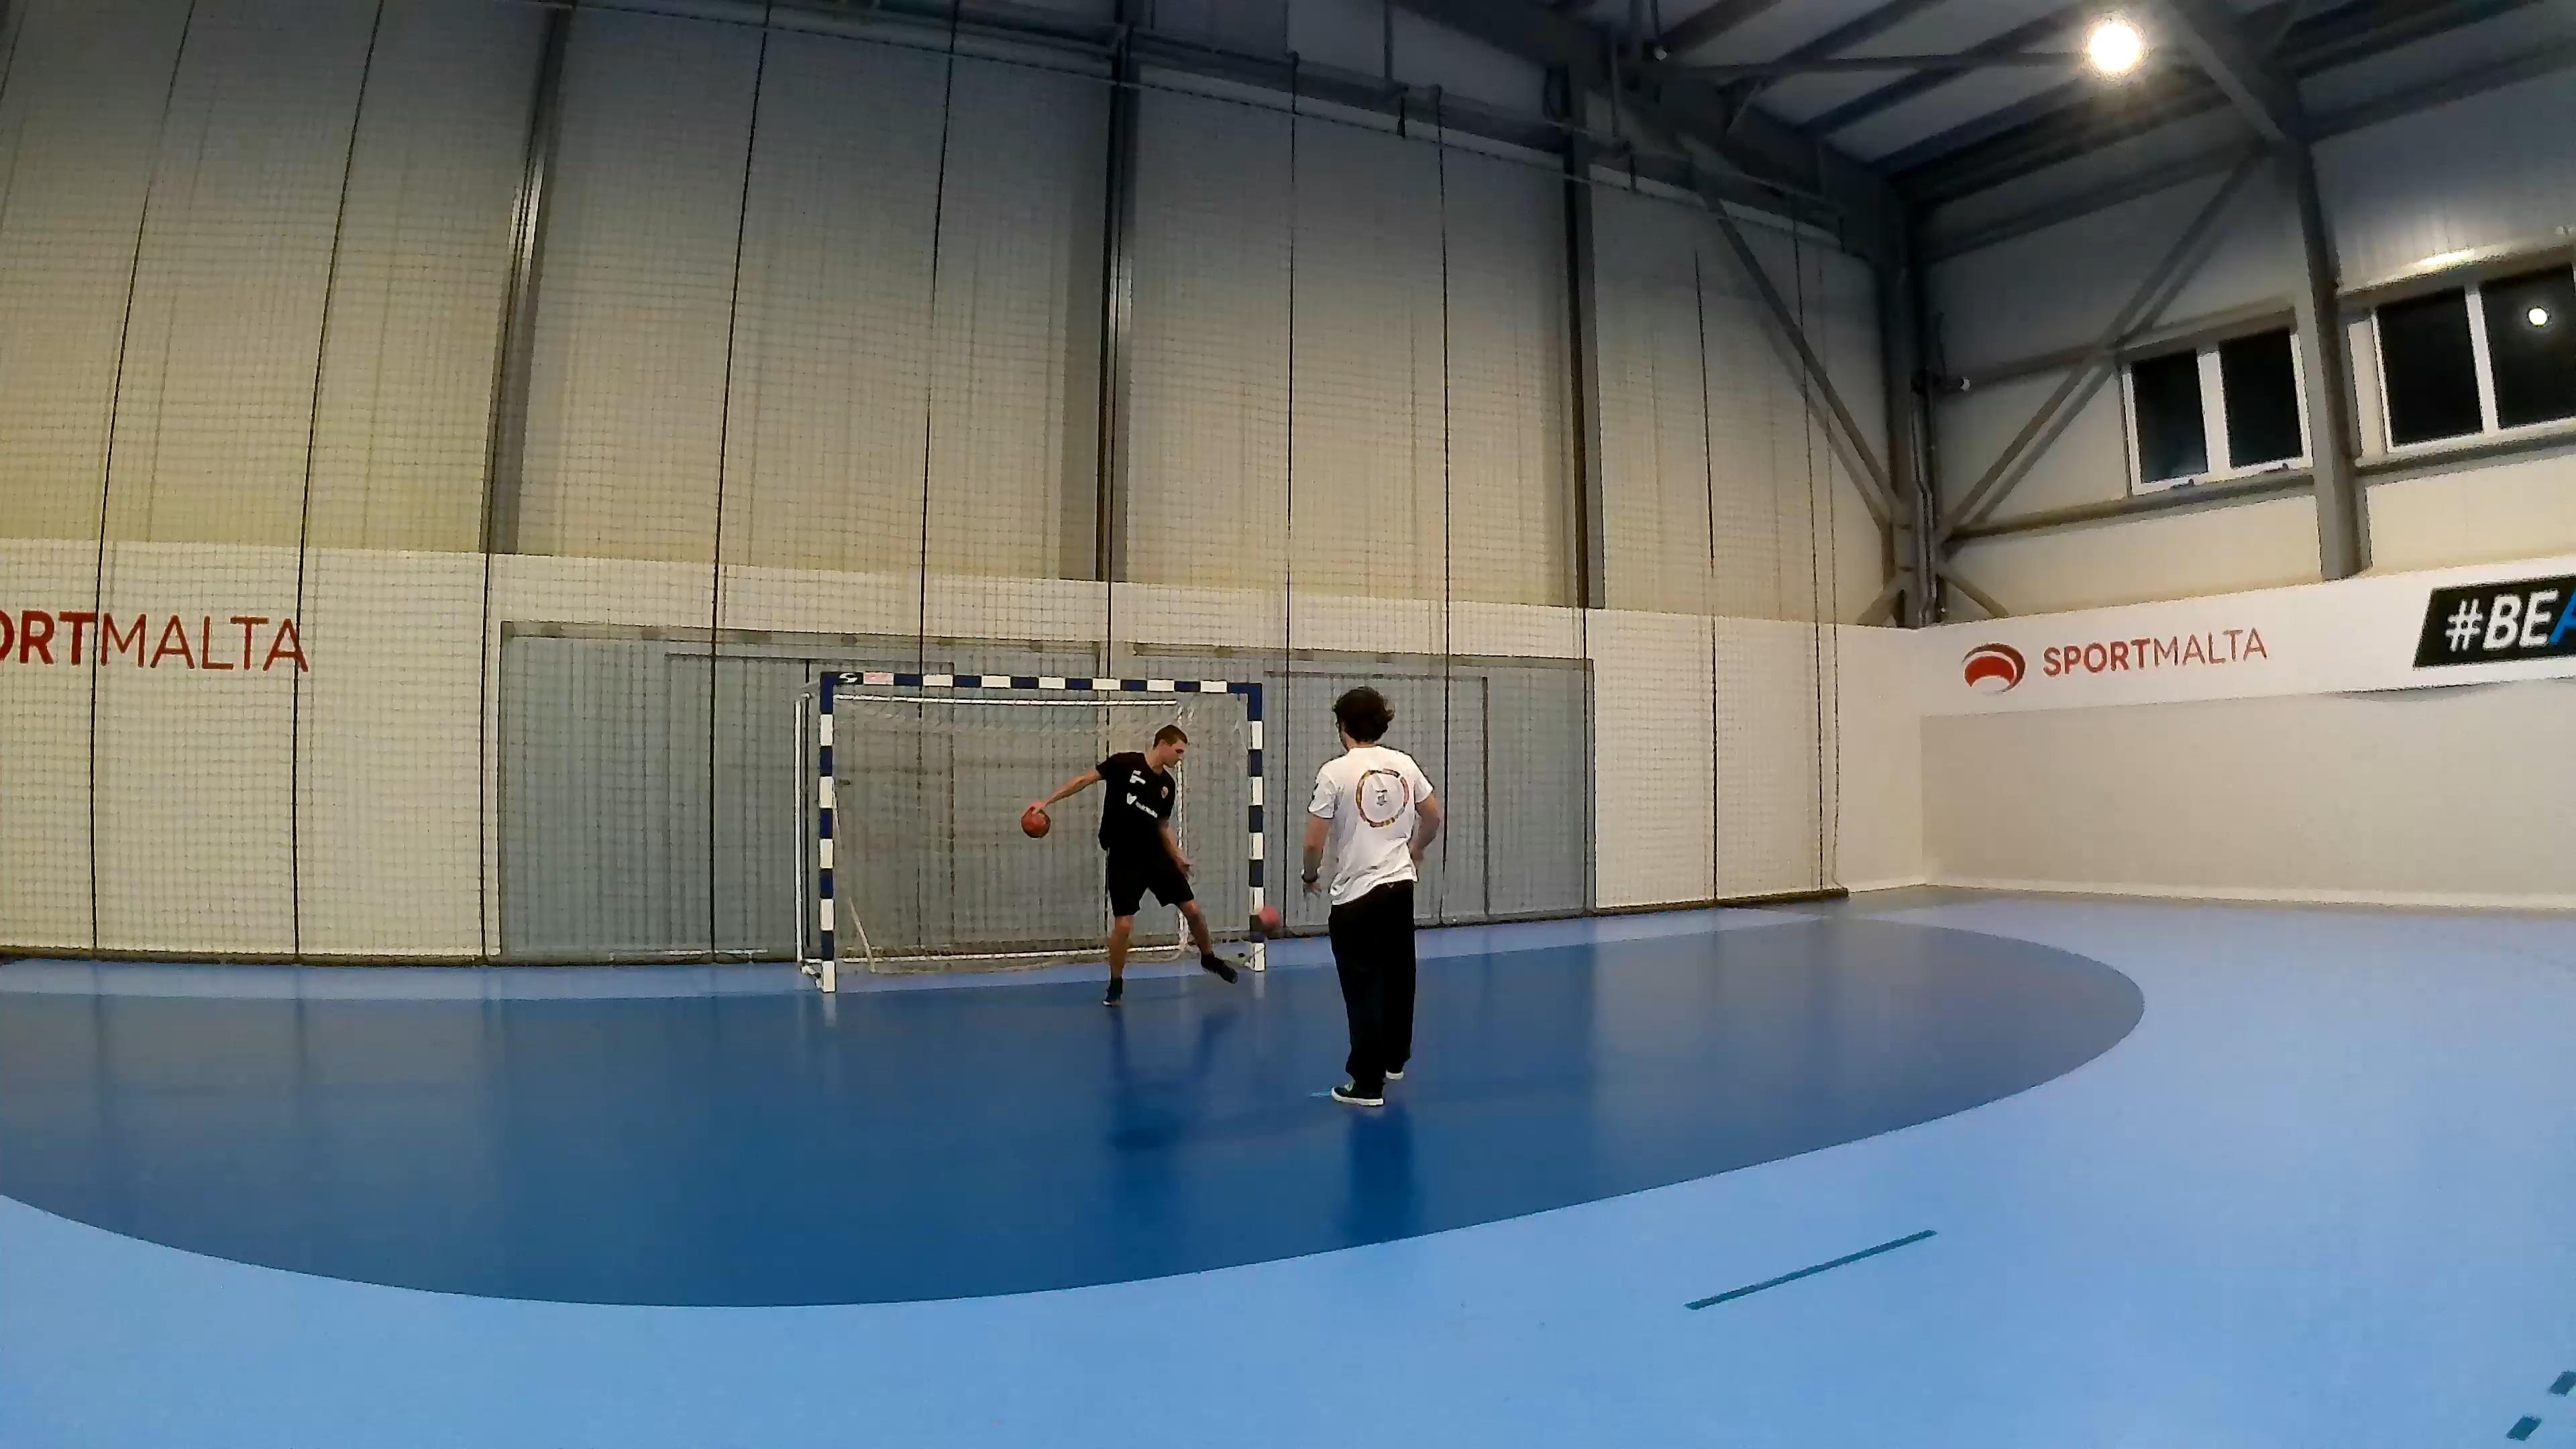handball: (1019, 805, 1054, 842), (1256, 904, 1281, 934)
